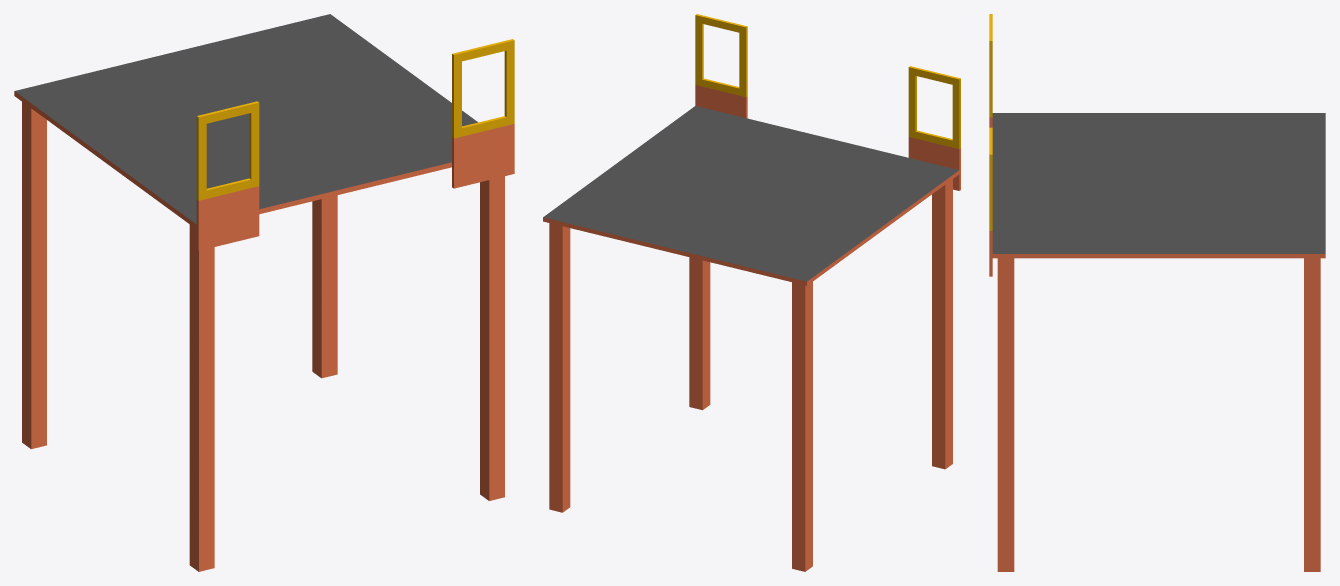
Rendered from Prop_Industrial_Platform_Walkway_Wide_Side_Connector_01.FBX.
The picture shows the model from 3 angles, left to right: view 1: azimuth 30°, elevation 25°; view 2: azimuth 150°, elevation 25°; view 3: azimuth 270°, elevation 25°; orthographic projection. The views are drawn at different scales.
Visible parts, largest first — view 1: Prop_Industrial_Platform_Walkway_Wide_Side_Connector_01; view 2: Prop_Industrial_Platform_Walkway_Wide_Side_Connector_01; view 3: Prop_Industrial_Platform_Walkway_Wide_Side_Connector_01.
Boxes of the visible parts, <box> form: Prop_Industrial_Platform_Walkway_Wide_Side_Connector_01: <box>14,14,514,571</box>; Prop_Industrial_Platform_Walkway_Wide_Side_Connector_01: <box>543,14,960,571</box>; Prop_Industrial_Platform_Walkway_Wide_Side_Connector_01: <box>989,14,1325,571</box>.
Bounding box in the file's own units: 3960 × 5500 × 4000.
